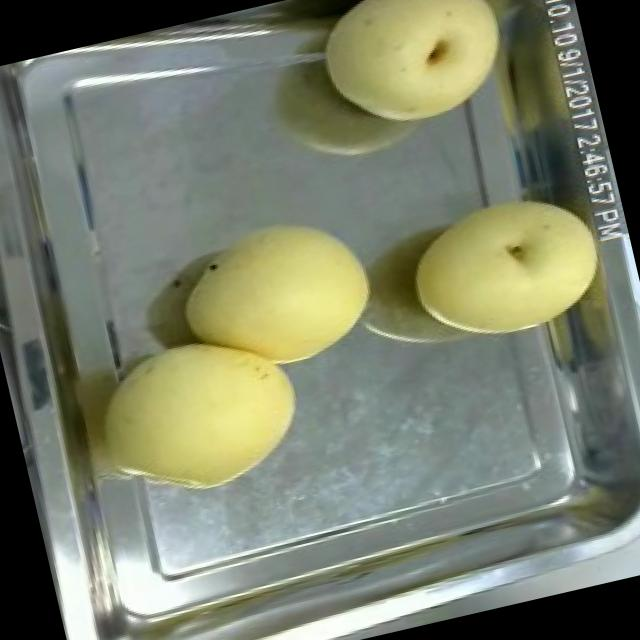Fruit: (75, 312, 322, 522), (159, 195, 390, 394), (392, 170, 620, 362), (299, 0, 534, 154)
